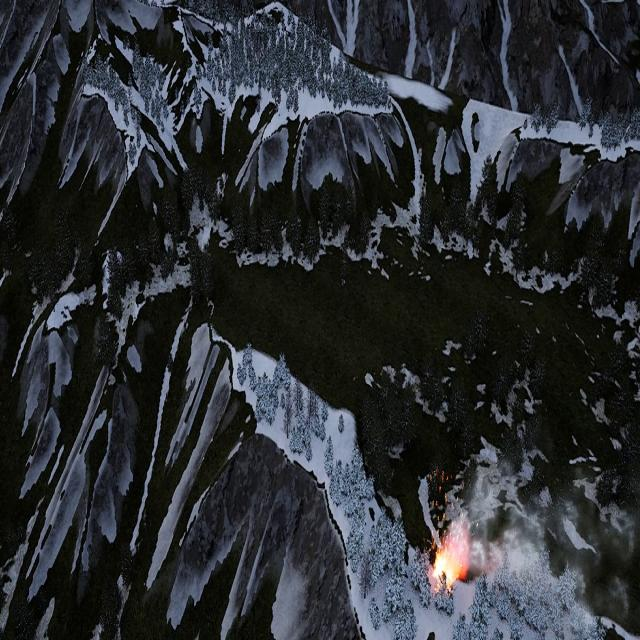fire: (434, 546, 466, 588)
smoke: (444, 461, 636, 621)
